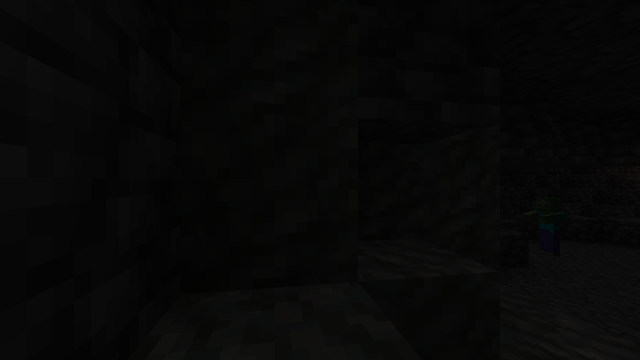zombies: (533, 198, 565, 257)
